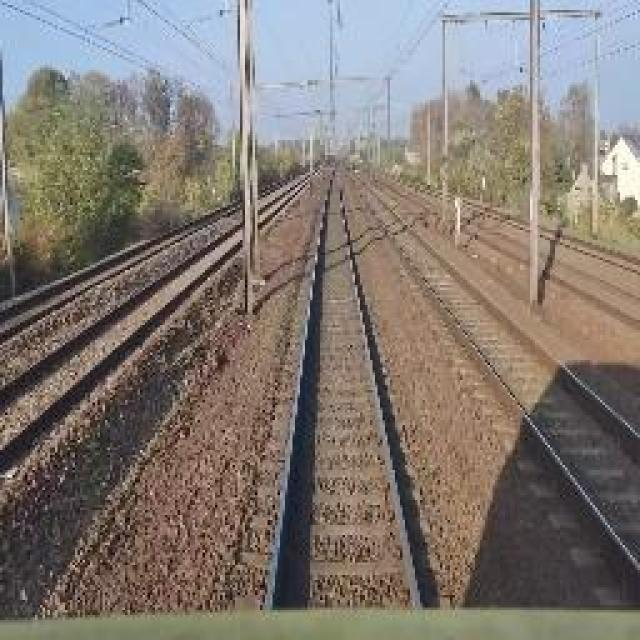rail: (346, 167, 640, 616), (1, 169, 323, 508), (253, 163, 464, 607)
